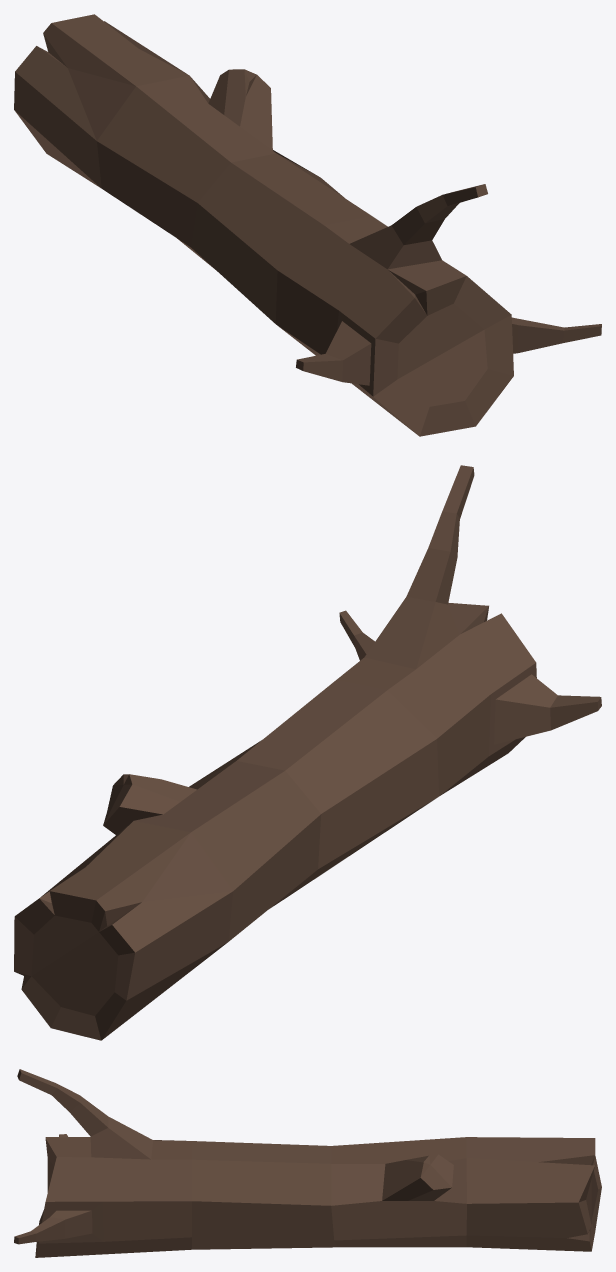
The model's file is Log.fbx.
The picture shows the model from 3 angles, top to bottom: view 1: azimuth 30°, elevation 25°; view 2: azimuth 150°, elevation 25°; view 3: azimuth 270°, elevation 25°; orthographic projection. The views are drawn at different scales.
Visible parts, largest first — view 1: Log; view 2: Log; view 3: Log.
Part boxes in pixels (x1,y1,x2,y2): Log: (14, 14, 601, 436); Log: (14, 465, 601, 1040); Log: (14, 1069, 601, 1257).
Size of the model in its own units: 319 by 278 by 800.
